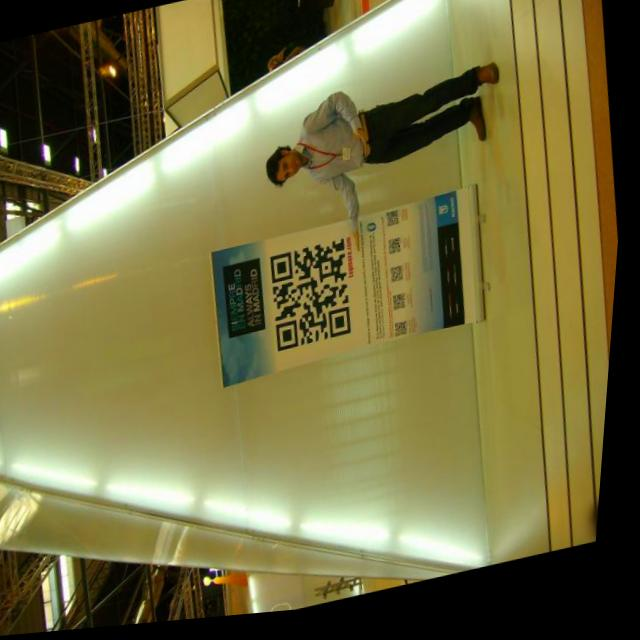qrcode: (270, 245, 363, 358), (398, 302, 412, 318), (395, 274, 409, 290), (400, 330, 414, 346), (393, 246, 407, 262), (390, 219, 404, 234)
